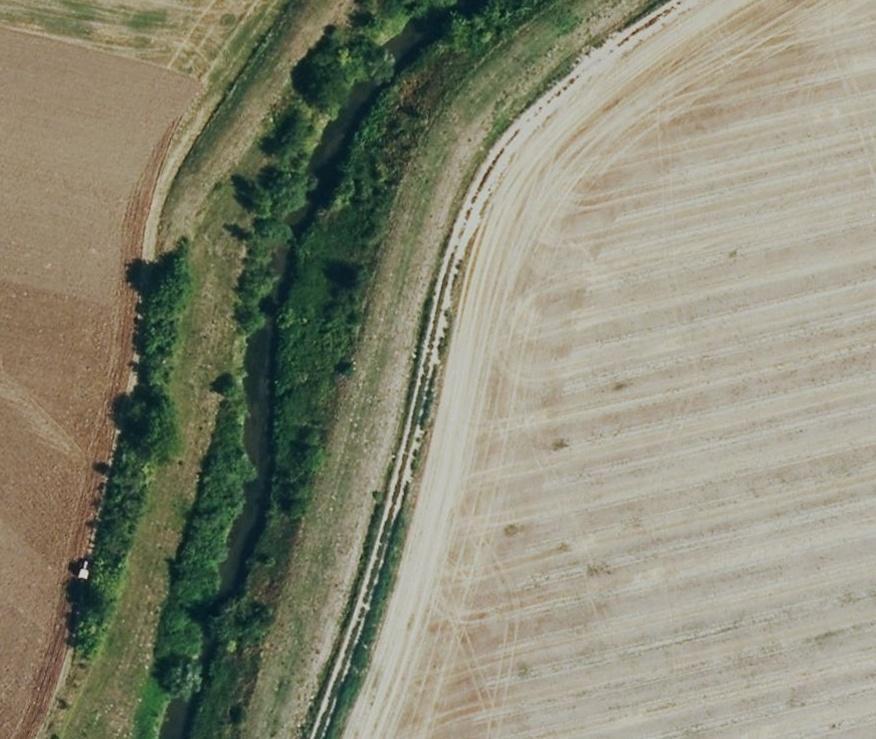field: (243, 0, 876, 736), (0, 0, 349, 736)
forest: (70, 241, 192, 656), (238, 27, 394, 218)
lake: (219, 197, 315, 601), (310, 84, 381, 186), (159, 698, 190, 737)
